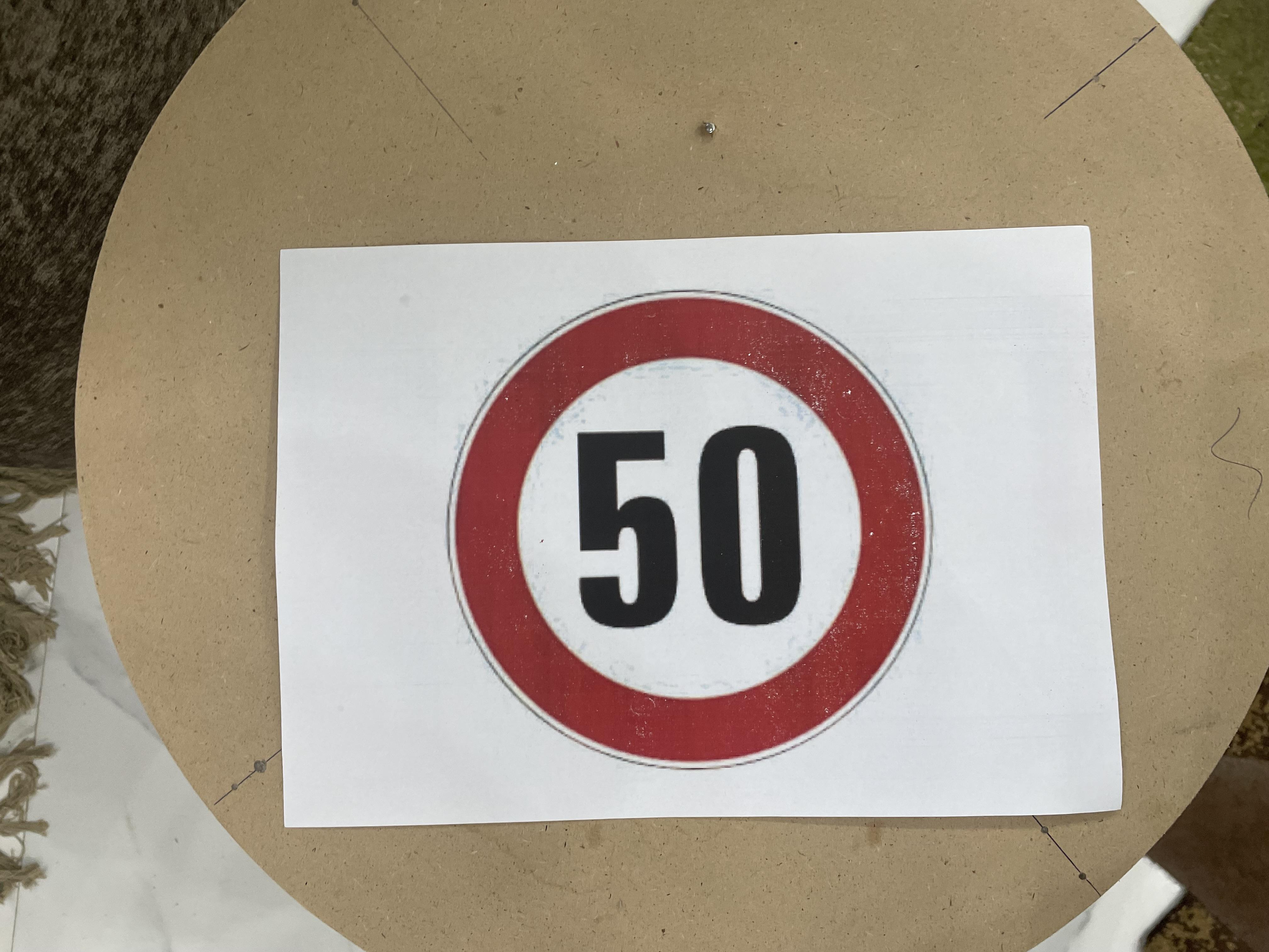50-Speed: (331, 180, 819, 651)
